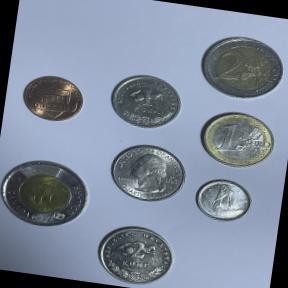coin: (0, 150, 98, 235), (192, 27, 288, 109), (101, 136, 194, 209), (88, 217, 181, 288), (193, 104, 280, 174), (14, 67, 90, 129), (189, 171, 258, 228)
